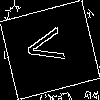V: (24, 24, 73, 68)
